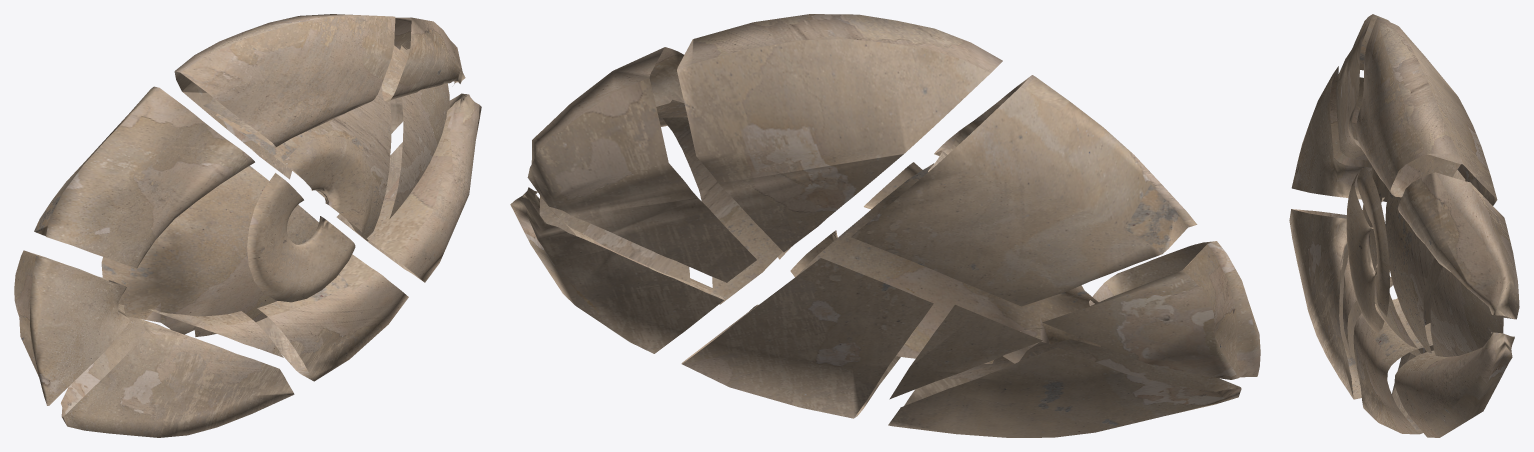
Rendered from eye-R-broken.fbx.
The picture shows the model from 3 angles, left to right: view 1: azimuth 30°, elevation 25°; view 2: azimuth 150°, elevation 25°; view 3: azimuth 270°, elevation 25°; orthographic projection. The views are drawn at different scales.
Parts seen in each view (by area): view 1: EyeR.003, EyeR.004, EyeR.013, EyeR.001, EyeR.010, EyeR.011, EyeR.009, EyeR.005, EyeR.002, EyeR.008, EyeR.006, EyeR.012 (+1 smaller); view 2: EyeR.003, EyeR.004, EyeR.008, EyeR.009, EyeR.013, EyeR.010, EyeR.011, EyeR.001, EyeR.014, EyeR.002, EyeR.012, EyeR.005; view 3: EyeR.003, EyeR.008, EyeR.013, EyeR.011, EyeR.009, EyeR.010, EyeR.012, EyeR.002, EyeR.005, EyeR.004, EyeR.006, EyeR.001 (+1 smaller).
Boxes of the visible parts, x1,y1,x2,y2 form: EyeR.003: (174, 14, 395, 179); EyeR.004: (34, 86, 254, 268); EyeR.013: (61, 317, 294, 437); EyeR.001: (101, 166, 318, 336); EyeR.010: (14, 250, 129, 405); EyeR.011: (336, 93, 481, 282); EyeR.009: (256, 254, 408, 381); EyeR.005: (247, 173, 355, 302); EyeR.002: (216, 84, 391, 240); EyeR.008: (382, 17, 465, 133); EyeR.006: (283, 135, 372, 235); EyeR.012: (389, 48, 449, 218); EyeR.003: (677, 14, 1002, 251); EyeR.004: (851, 75, 1197, 306); EyeR.008: (527, 47, 756, 282); EyeR.009: (681, 258, 933, 418); EyeR.013: (888, 339, 1241, 437); EyeR.010: (1042, 241, 1260, 379); EyeR.011: (510, 187, 726, 353); EyeR.001: (797, 163, 1100, 363); EyeR.014: (889, 305, 1042, 399); EyeR.002: (663, 117, 782, 304); EyeR.012: (539, 195, 690, 282); EyeR.005: (790, 162, 922, 277); EyeR.003: (1356, 17, 1497, 205); EyeR.008: (1398, 172, 1519, 319); EyeR.013: (1289, 209, 1375, 399); EyeR.011: (1394, 332, 1514, 437); EyeR.009: (1353, 258, 1442, 434); EyeR.010: (1291, 66, 1388, 201); EyeR.012: (1430, 266, 1503, 356); EyeR.002: (1385, 170, 1465, 353); EyeR.005: (1346, 172, 1384, 332); EyeR.004: (1336, 14, 1389, 160); EyeR.006: (1357, 168, 1389, 316); EyeR.001: (1362, 166, 1421, 355).
Size of the model in its own units: 3.43 by 2.14 by 1.27.
